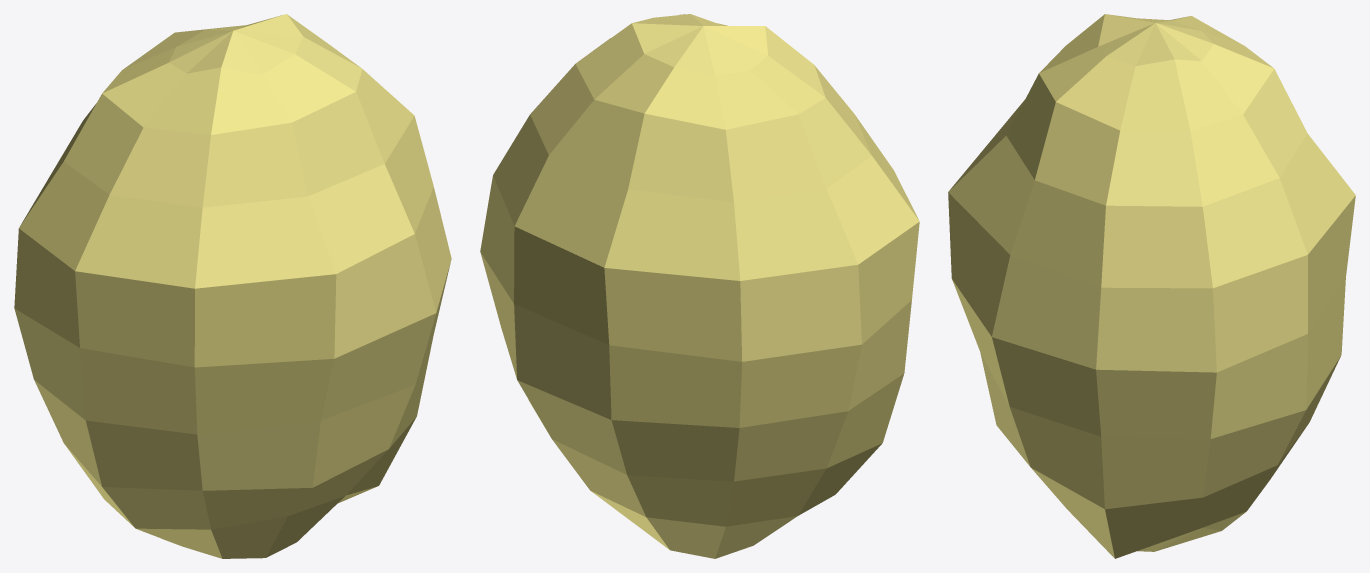
File: PotatoModel.fbx
The picture shows the model from 3 angles, left to right: view 1: azimuth 30°, elevation 25°; view 2: azimuth 150°, elevation 25°; view 3: azimuth 270°, elevation 25°; orthographic projection.
Visible parts, largest first — view 1: Potato; view 2: Potato; view 3: Potato.
Part boxes in pixels (left/top/right/bottom): Potato: left=14, top=14, right=451, bottom=558; Potato: left=480, top=14, right=919, bottom=558; Potato: left=948, top=14, right=1355, bottom=558.
Bounding box in the file's own units: 29.73 × 27.16 × 38.89.
